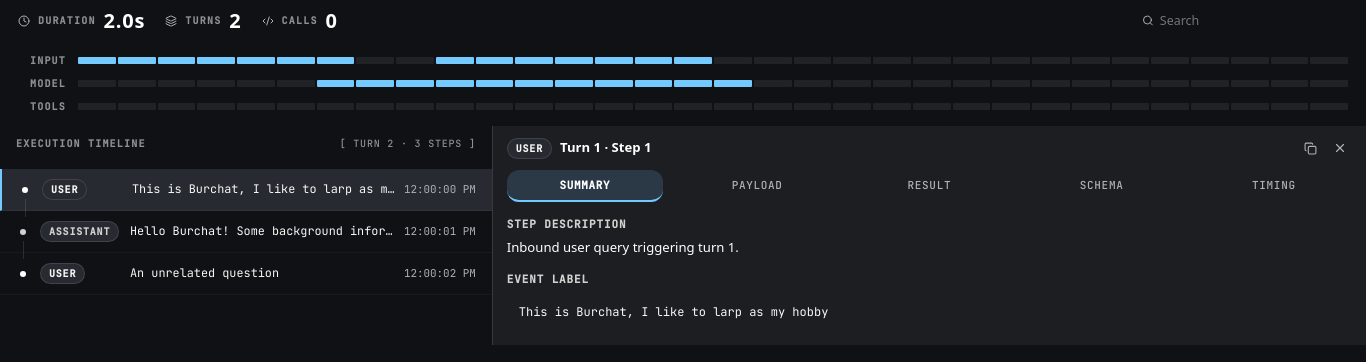
Trajectory keyword search › matches terms across event fields
The image size is (1366, 362).
In the field with placeholder "Search": (1247, 20) [1160, 12, 1334, 29], type "user larp"
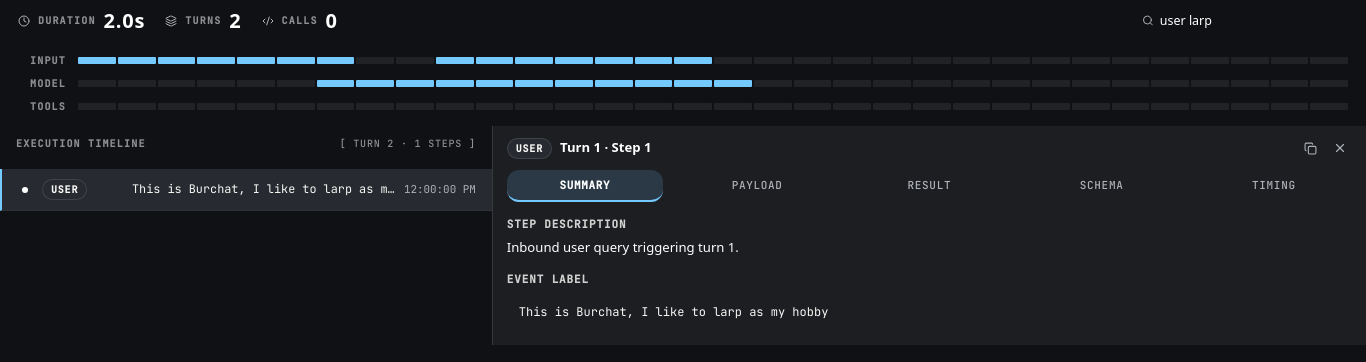
Check: the number of elements with class "ledger-event-row" is 1, box [0, 169, 492, 211]
